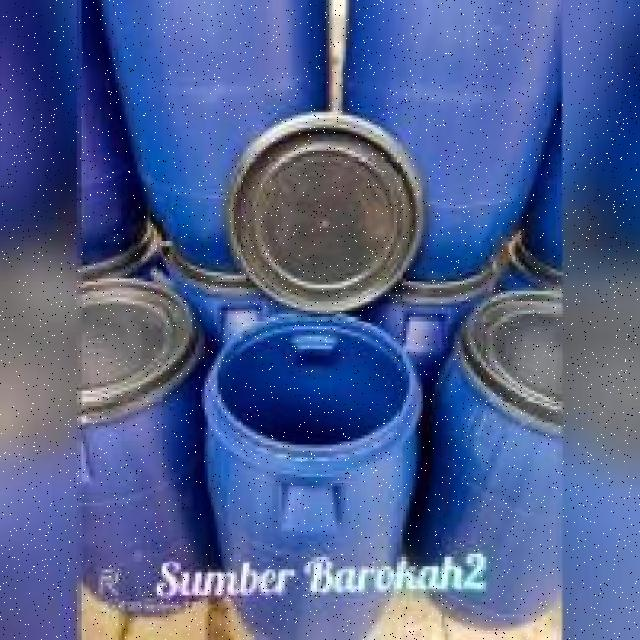garbage container: (205, 317, 432, 637), (422, 288, 567, 630), (77, 274, 201, 614)
